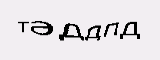Д: (58, 22, 85, 43), (118, 21, 142, 40), (83, 24, 101, 43)
П: (103, 21, 118, 36)
Т: (16, 20, 29, 34)
Ә: (30, 19, 53, 37)
